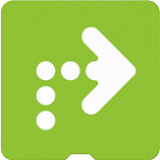right: (1, 1, 160, 159)
